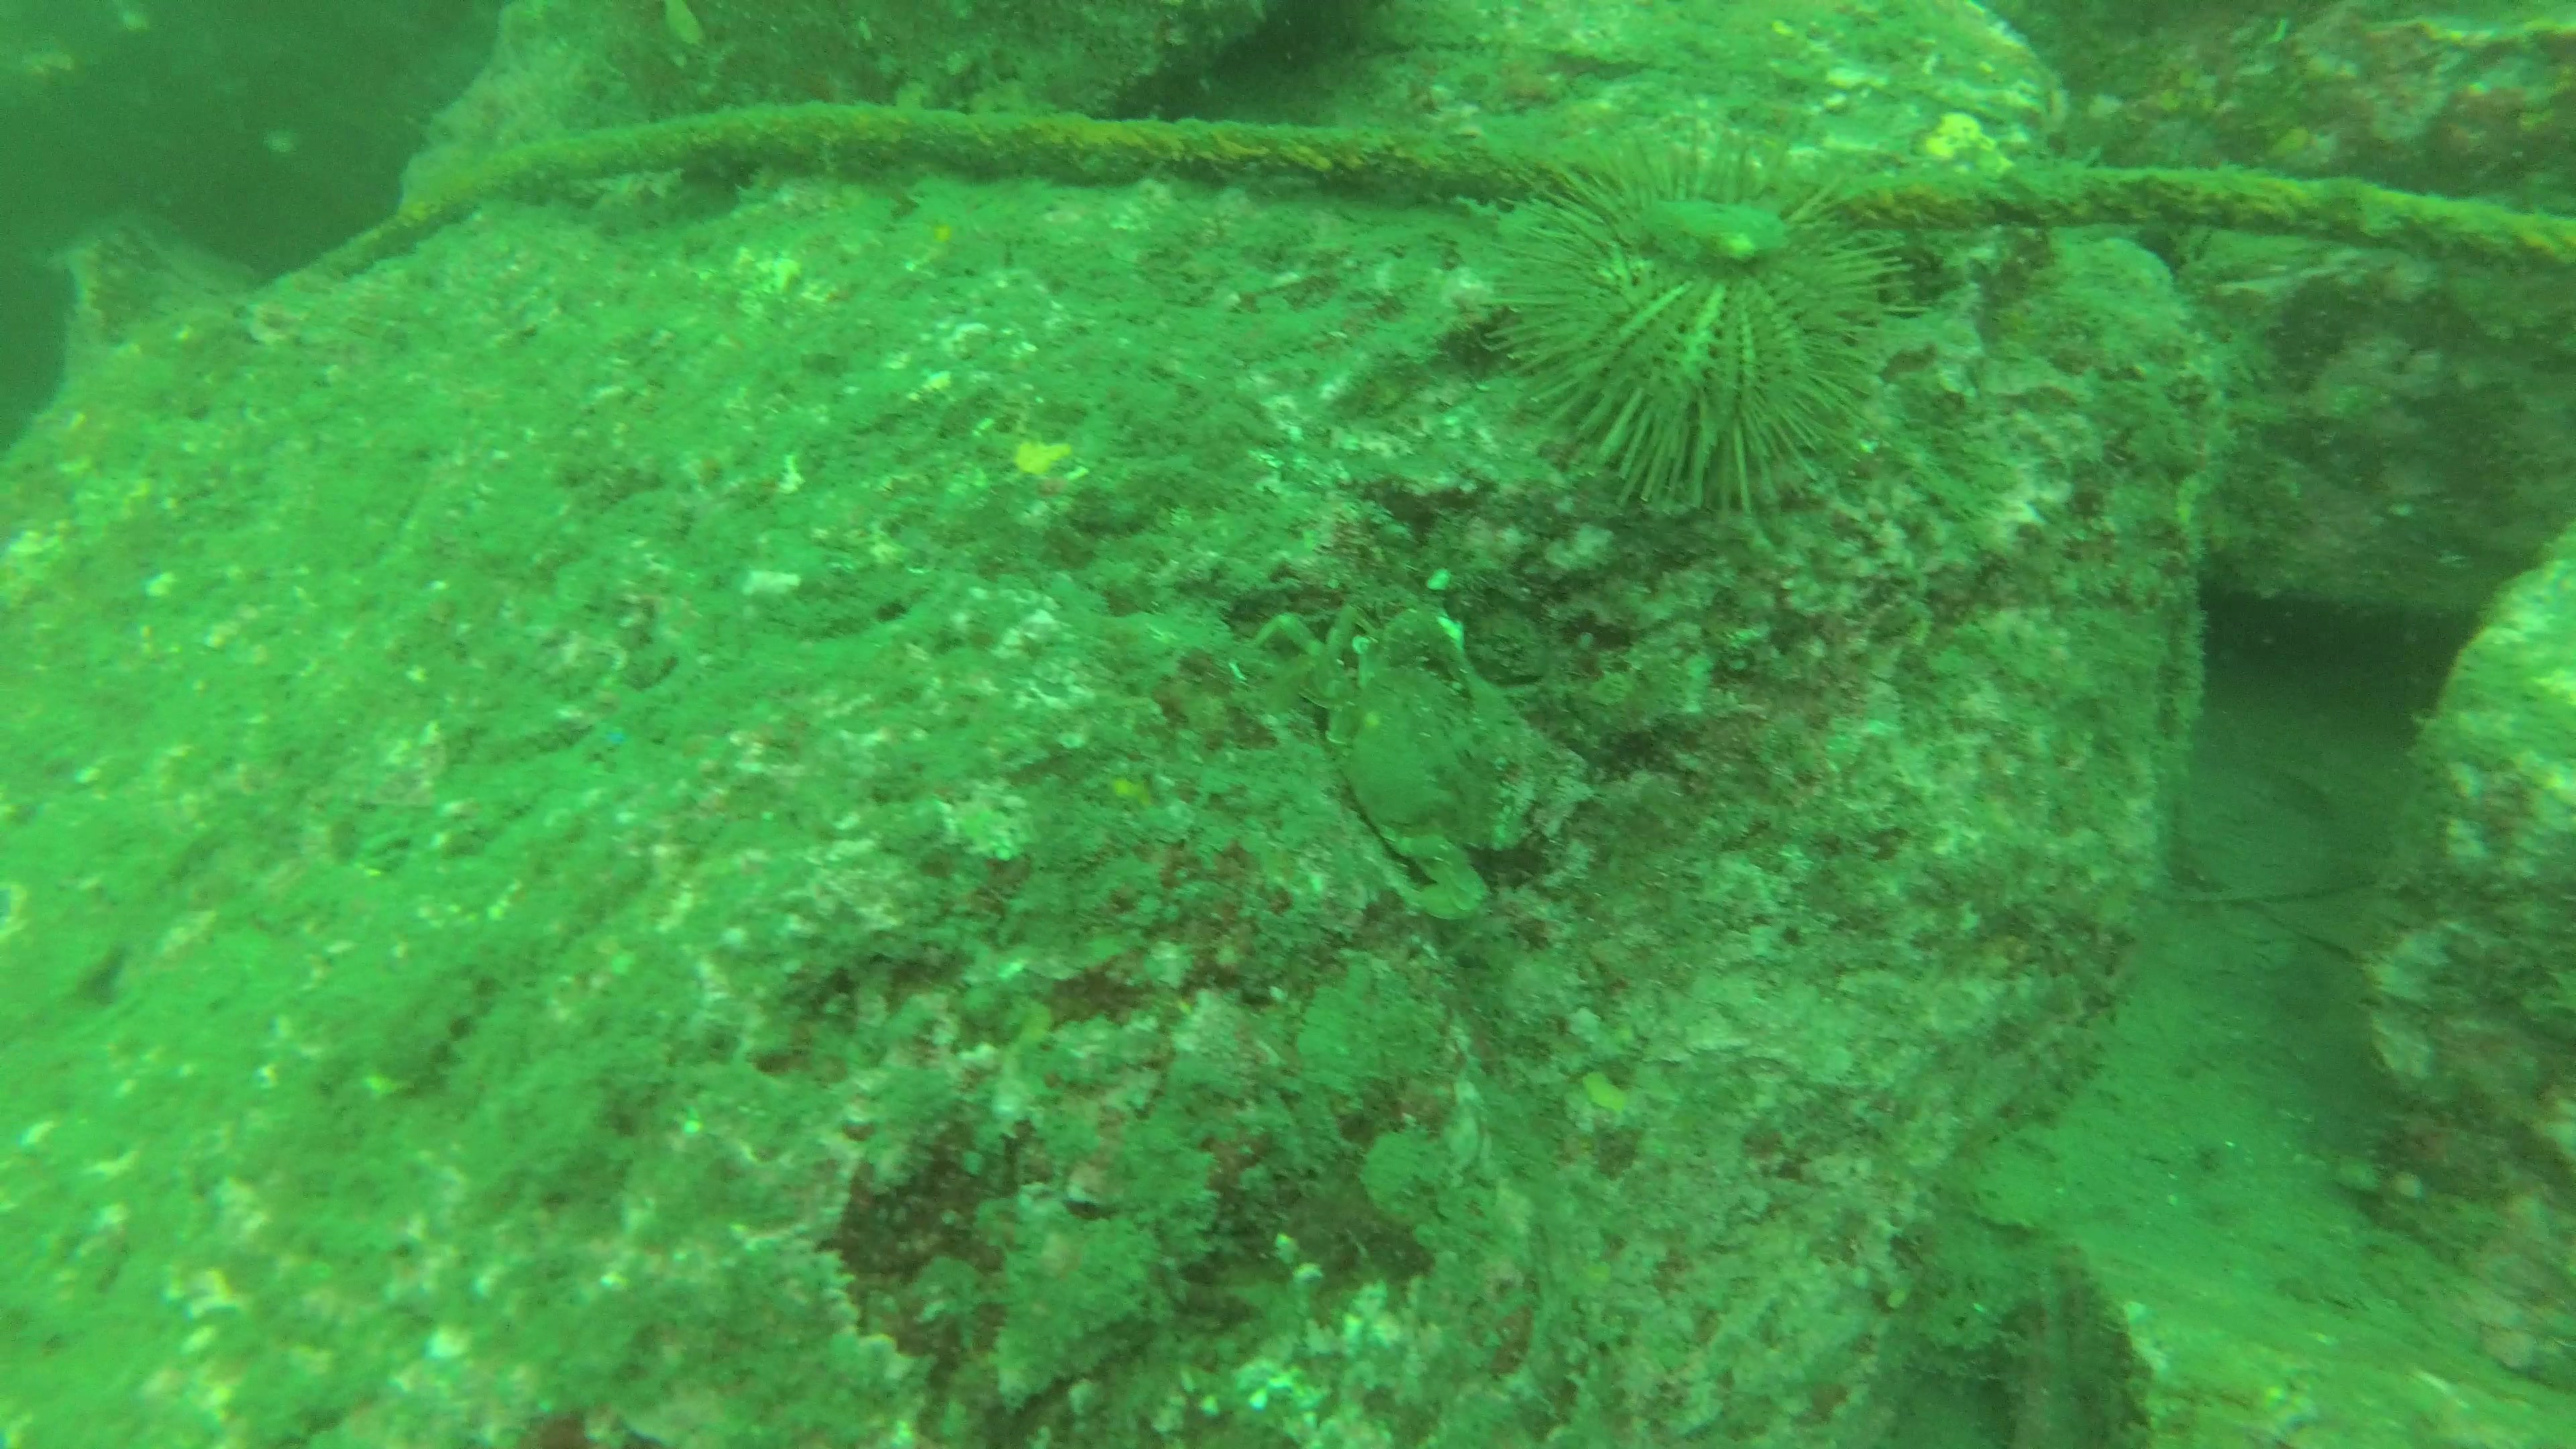echinus: (1484, 133, 1921, 511)
